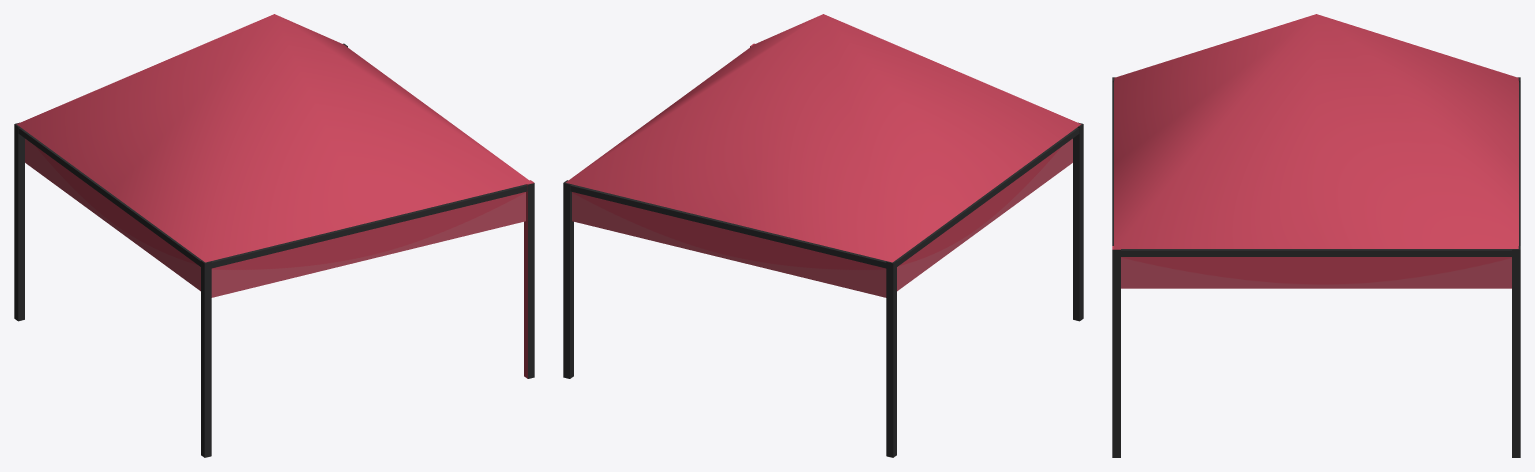
File: tent.glb
The picture shows the model from 3 angles, left to right: view 1: azimuth 30°, elevation 25°; view 2: azimuth 150°, elevation 25°; view 3: azimuth 270°, elevation 25°; orthographic projection. The views are drawn at different scales.
Visible parts, largest first — view 1: Canopy_1; view 2: Canopy_1; view 3: Canopy_1.
Part boxes in pixels (x1,y1,x2,y2): Canopy_1: (14,14,534,457); Canopy_1: (563,14,1083,457); Canopy_1: (1112,14,1520,457).
Size of the model in its own units: 817 by 790 by 817.
Materials: 1 (1 with a texture image).
